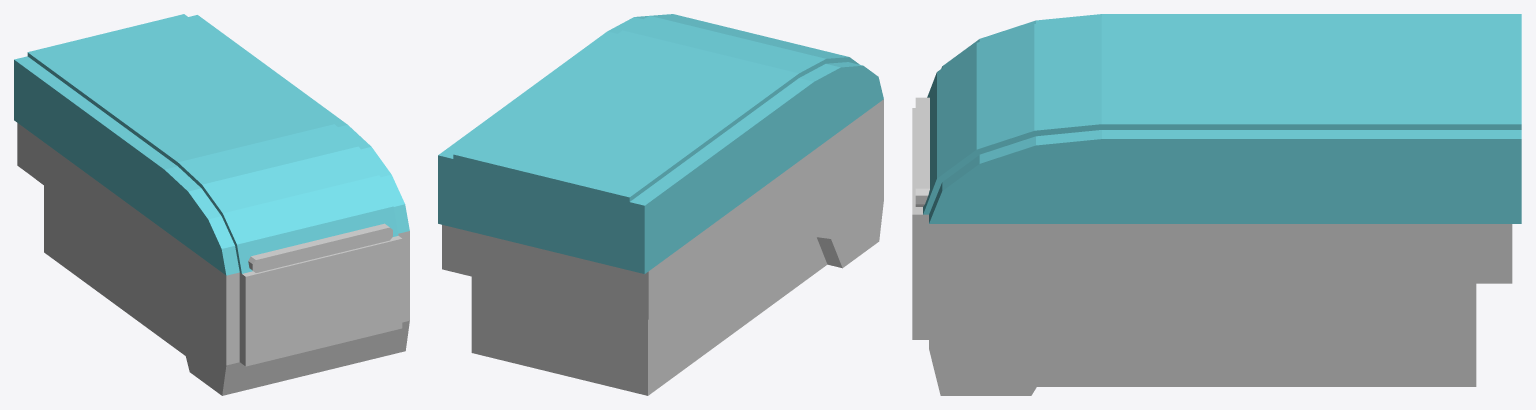
The model's file is SM_Mixing_Device.glb.
3 renders of one model, left to right at view 1: azimuth 30°, elevation 25°; view 2: azimuth 150°, elevation 25°; view 3: azimuth 270°, elevation 25°, orthographic. The views are drawn at different scales.
Parts seen in each view (by area): view 1: SM_Mixing_Device; view 2: SM_Mixing_Device; view 3: SM_Mixing_Device.
Part boxes in pixels (box(x1,y1,x2,y2)): SM_Mixing_Device: box(14, 14, 409, 395); SM_Mixing_Device: box(438, 14, 883, 395); SM_Mixing_Device: box(912, 14, 1521, 395).
Bounding box in the file's own units: 0.2634 × 0.258 × 0.5426.
